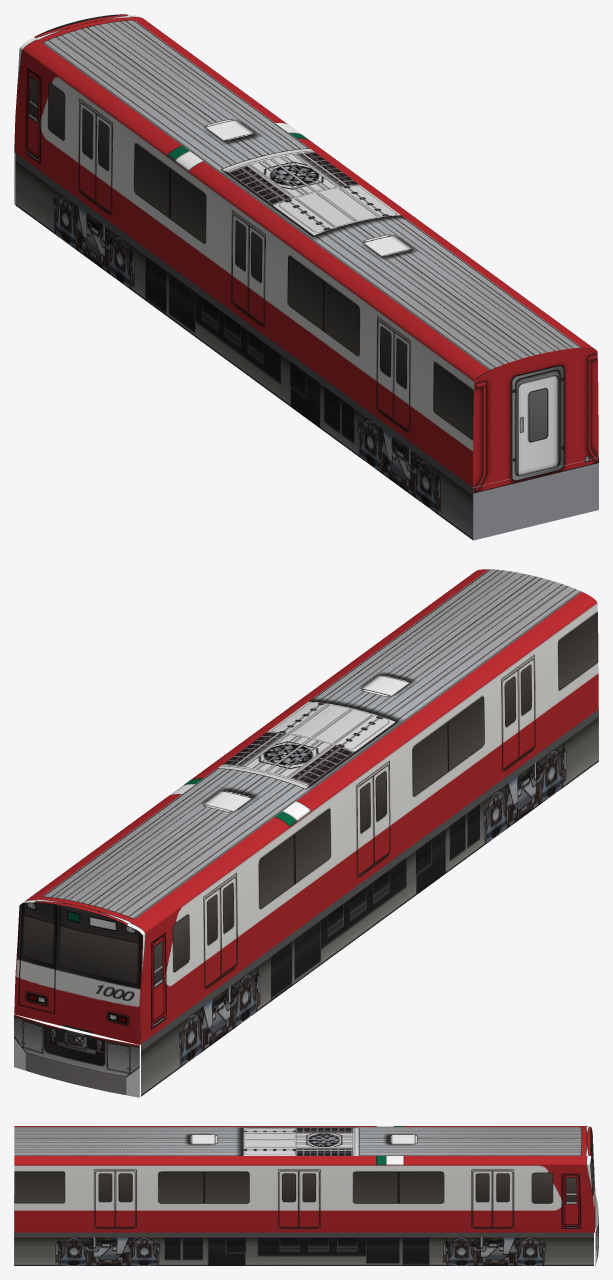
File: car4.glb
3 views of the same model, one above another, from view 1: azimuth 30°, elevation 25°; view 2: azimuth 150°, elevation 25°; view 3: azimuth 270°, elevation 25° (orthographic). The views are drawn at different scales.
Parts seen in each view (by area): view 1: car4.glb; view 2: car4.glb; view 3: car4.glb.
Part boxes in pixels (x1,y1,x2,y2): car4.glb: [14, 14, 598, 540]; car4.glb: [14, 569, 598, 1097]; car4.glb: [14, 1126, 598, 1265].
Bounding box in the file's own units: 2.83 × 3.66 × 18.03.
9 materials, 8 textured.
